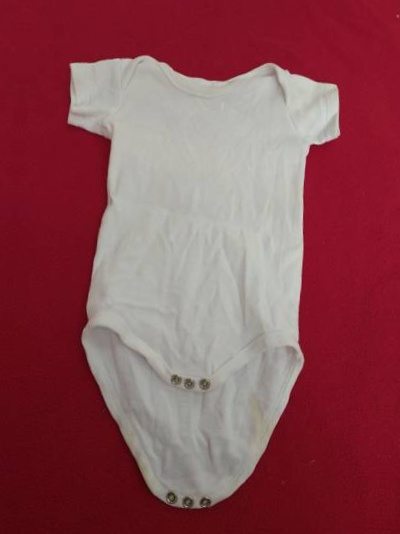Body: (28, 33, 377, 524)
